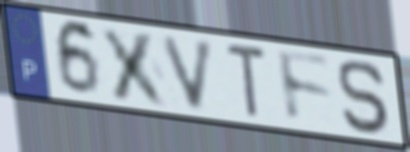6: (52, 18, 105, 102)
F: (274, 47, 335, 126)
S: (336, 57, 394, 138)
T: (224, 40, 270, 120)
V: (159, 33, 219, 114)
X: (97, 24, 173, 110)
